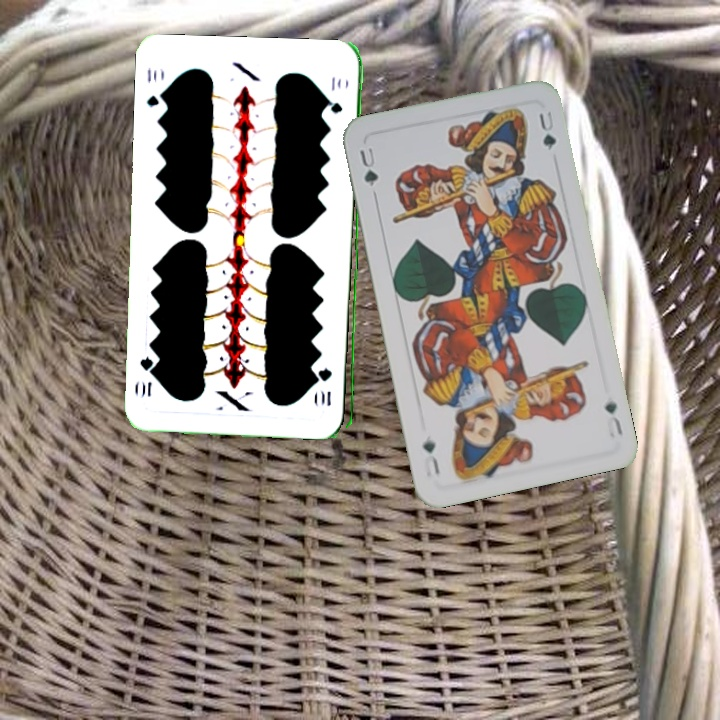G10: (143, 63, 168, 110), (317, 364, 334, 408)
GU: (355, 143, 381, 199), (600, 396, 625, 438)
